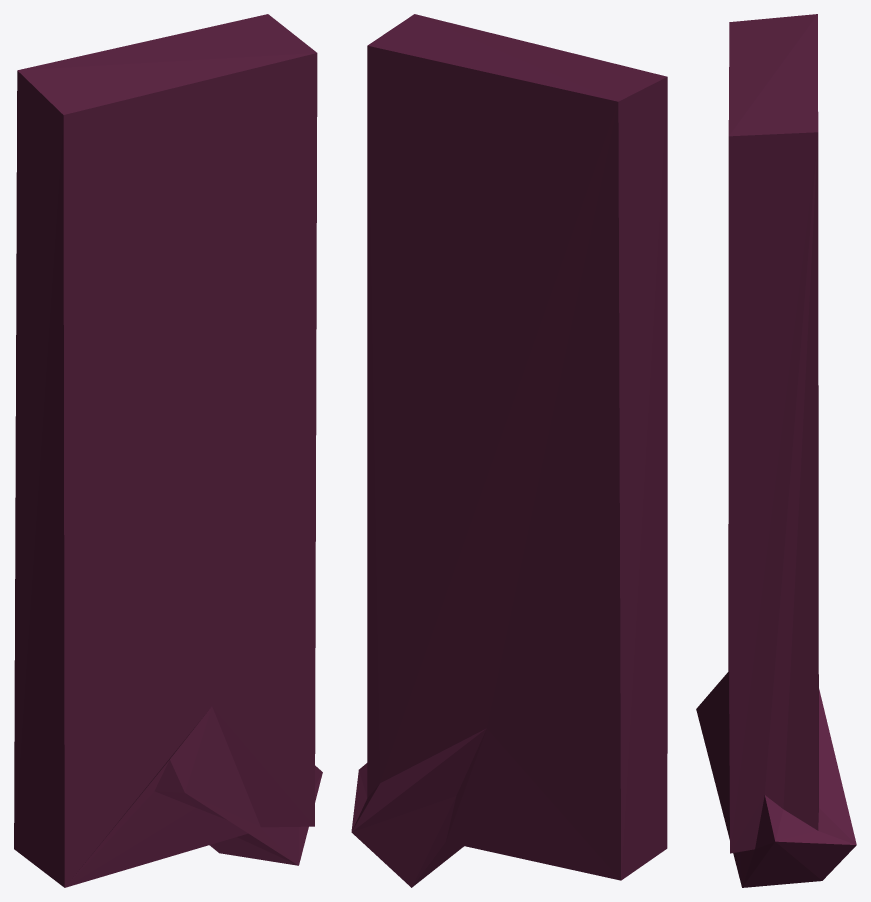
The picture shows the model from 3 angles, left to right: view 1: azimuth 30°, elevation 25°; view 2: azimuth 150°, elevation 25°; view 3: azimuth 270°, elevation 25°; orthographic projection. The views are drawn at different scales.
Parts seen in each view (by area): view 1: 501_Cube.2026; view 2: 501_Cube.2026; view 3: 501_Cube.2026.
Boxes of the visible parts, box(x1,y1,x2,y2) form: 501_Cube.2026: box(14, 14, 322, 887); 501_Cube.2026: box(351, 14, 667, 887); 501_Cube.2026: box(696, 14, 856, 887).
Size of the model in its own units: 4.67 by 13.05 by 2.45.
